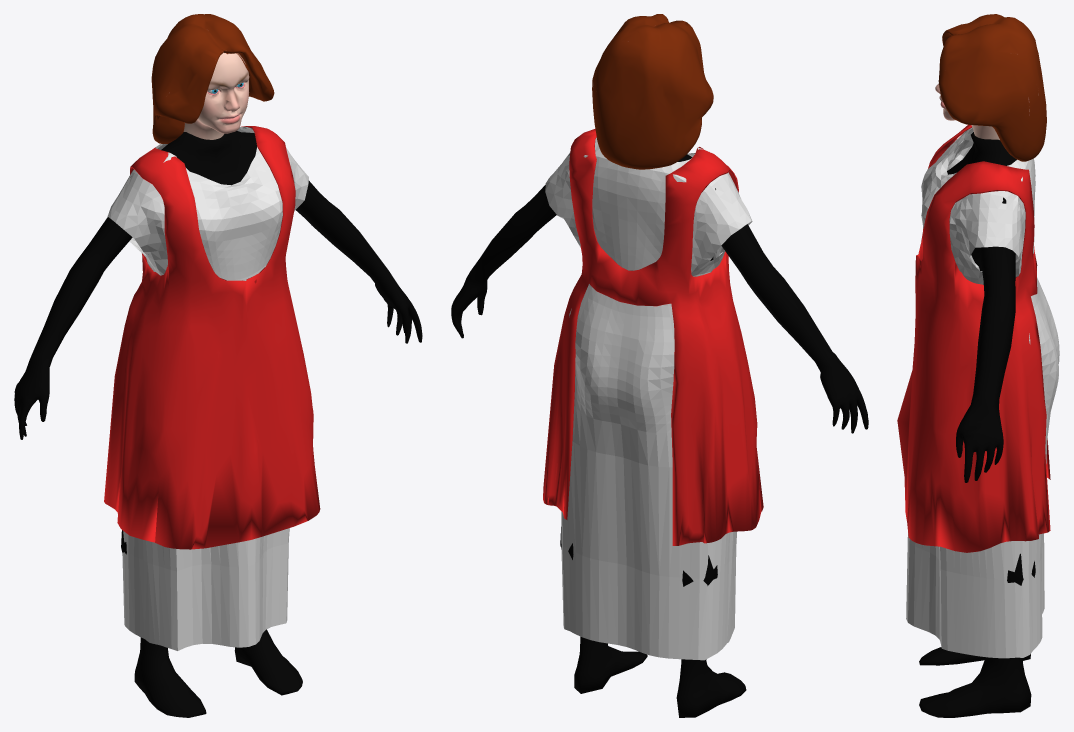
The model's file is femaleNPC4.fbx.
The picture shows the model from 3 angles, left to right: view 1: azimuth 30°, elevation 25°; view 2: azimuth 150°, elevation 25°; view 3: azimuth 270°, elevation 25°; orthographic projection. The views are drawn at different scales.
Parts seen in each view (by area): view 1: apronLow, low, dress; view 2: dress, apronLow, low; view 3: apronLow, low, dress.
Boxes of the visible parts, bbox=[...] form: apronLow: bbox=[104, 126, 320, 549]; low: bbox=[14, 14, 422, 717]; dress: bbox=[107, 126, 308, 650]; dress: bbox=[545, 137, 752, 660]; apronLow: bbox=[543, 129, 763, 545]; low: bbox=[451, 14, 868, 717]; apronLow: bbox=[897, 124, 1050, 552]; low: bbox=[919, 14, 1046, 717]; dress: bbox=[906, 127, 1059, 658].
Bounding box in the file's own units: 108 × 170 × 37.59.
